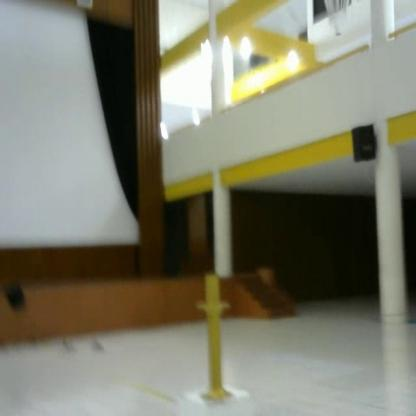pole: (195, 271, 237, 406)
